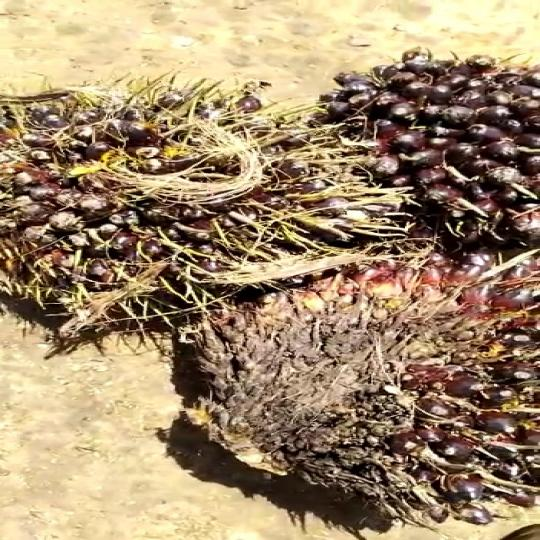mentah: (160, 235, 540, 522), (0, 73, 420, 328), (283, 43, 540, 240)
